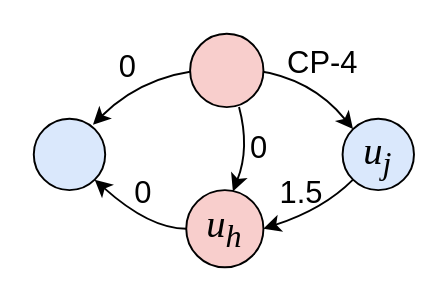
The diagram is 448 pixels wide and 301 high, and some of its shapes have lost their labels. Each missing label, with the centre of its shape:
"u i" goes at (68,153).
"u s" goes at (225,69).
